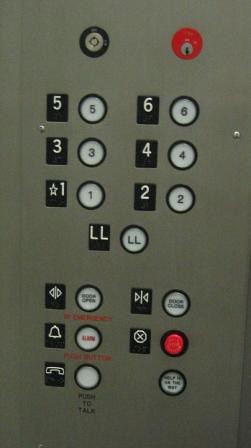button: (131, 180, 198, 215), (135, 92, 201, 127), (44, 90, 109, 125), (133, 137, 198, 172), (86, 221, 151, 256), (43, 177, 107, 211), (129, 285, 192, 319), (44, 135, 108, 168), (42, 320, 104, 353), (127, 326, 190, 358), (43, 281, 104, 314), (43, 360, 103, 391), (157, 365, 188, 398)
